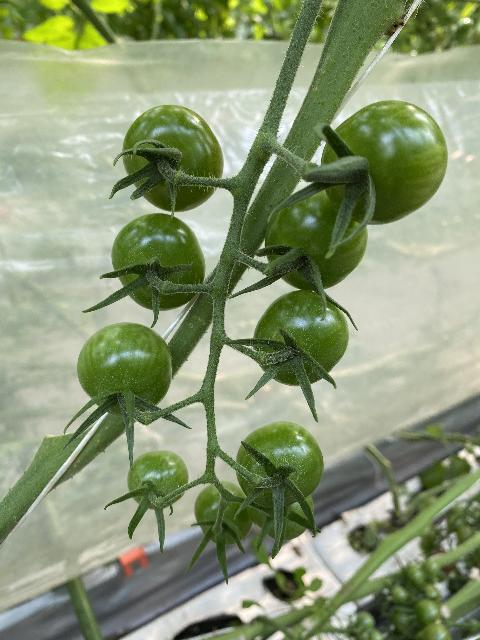l_green: (321, 100, 449, 224), (123, 104, 225, 213), (264, 189, 368, 291), (252, 290, 350, 387), (111, 214, 206, 311), (76, 322, 173, 416), (235, 421, 323, 511), (193, 481, 252, 546), (127, 451, 189, 509), (249, 495, 313, 541)
